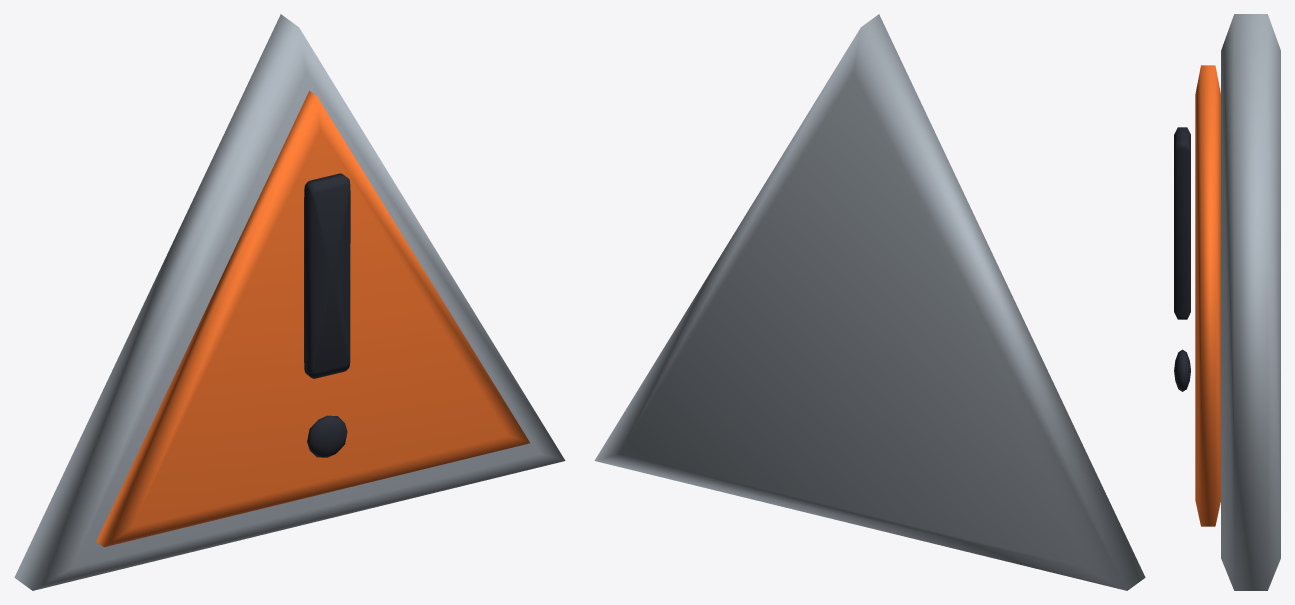
The model's file is sol_warning_badge.glb.
3 views of the same model, side by side, from view 1: azimuth 30°, elevation 25°; view 2: azimuth 150°, elevation 25°; view 3: azimuth 270°, elevation 25° (orthographic). The views are drawn at different scales.
Parts seen in each view (by area): view 1: sol_warning_badge_accent, sol_warning_badge_metal, sol_warning_badge_dark; view 2: sol_warning_badge_metal; view 3: sol_warning_badge_metal, sol_warning_badge_accent, sol_warning_badge_dark.
Boxes of the visible parts, <box> form: sol_warning_badge_accent: <box>96,91,529,547</box>; sol_warning_badge_metal: <box>14,14,565,590</box>; sol_warning_badge_dark: <box>304,173,350,457</box>; sol_warning_badge_metal: <box>594,14,1145,590</box>; sol_warning_badge_metal: <box>1221,14,1280,590</box>; sol_warning_badge_accent: <box>1195,65,1220,526</box>; sol_warning_badge_dark: <box>1174,127,1190,391</box>.
Size of the model in its own units: 0.066 by 0.059 by 0.0125.
